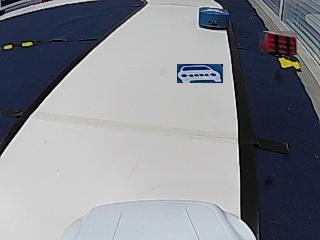prop: (199, 8, 229, 29)
